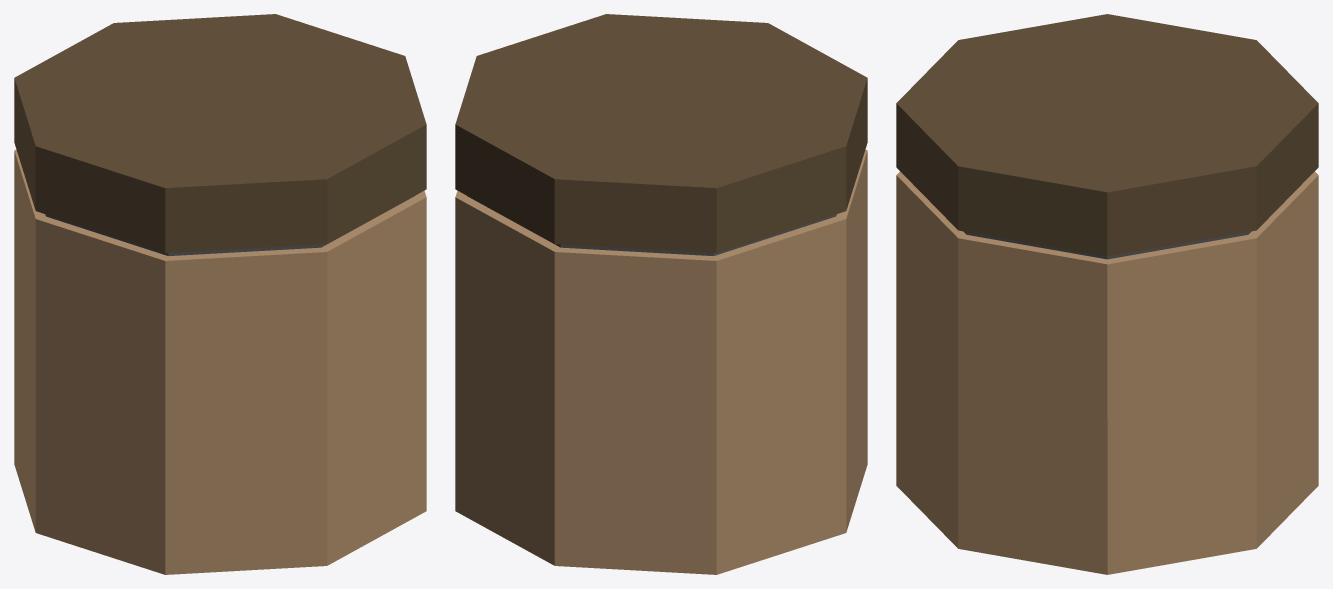
The model's file is BathroomProps_09.fbx.
The picture shows the model from 3 angles, left to right: view 1: azimuth 30°, elevation 25°; view 2: azimuth 150°, elevation 25°; view 3: azimuth 270°, elevation 25°; orthographic projection.
Parts seen in each view (by area): view 1: BathroomProps_09; view 2: BathroomProps_09; view 3: BathroomProps_09.
Boxes of the visible parts, box(x1,y1,x2,y2) form: BathroomProps_09: box(14, 14, 426, 574); BathroomProps_09: box(455, 14, 867, 574); BathroomProps_09: box(896, 14, 1318, 574).
Bounding box in the file's own units: 12.04 × 12.04 × 12.04.
